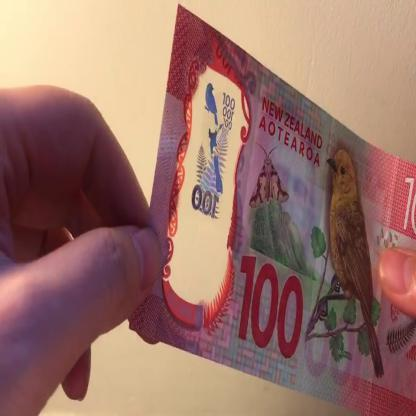100B: (190, 78, 238, 245)
